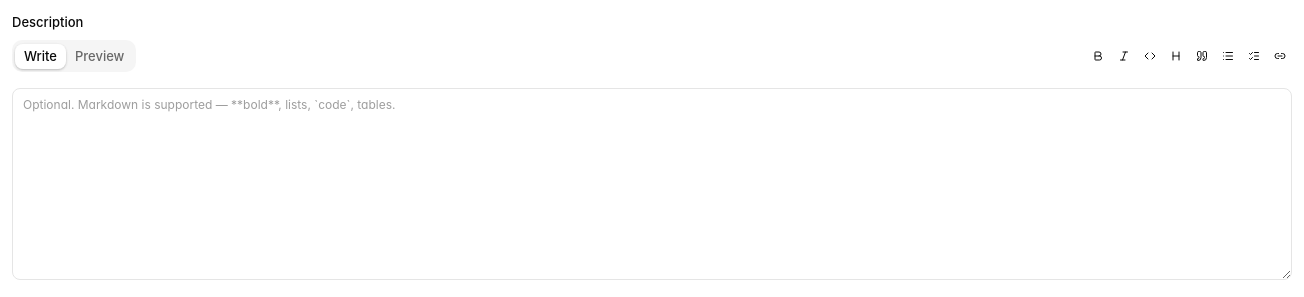
Test case: MarkdownField toolbar › inserts a hint word when nothing is selected, so the button is never a no-op
The width and height of the screenshot is (1304, 297).
Click the button named "Italic" at coordinates (1124, 56), box [1112,44,1136,68]
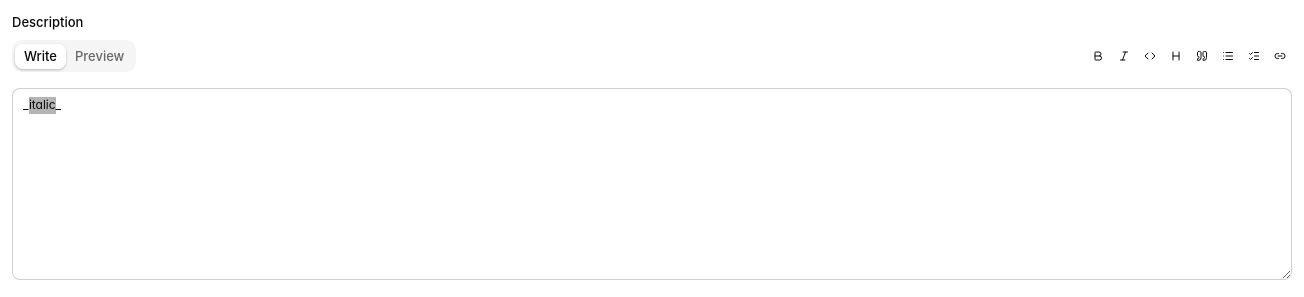
Expected: the text box named "Description" holds "_italic_"
